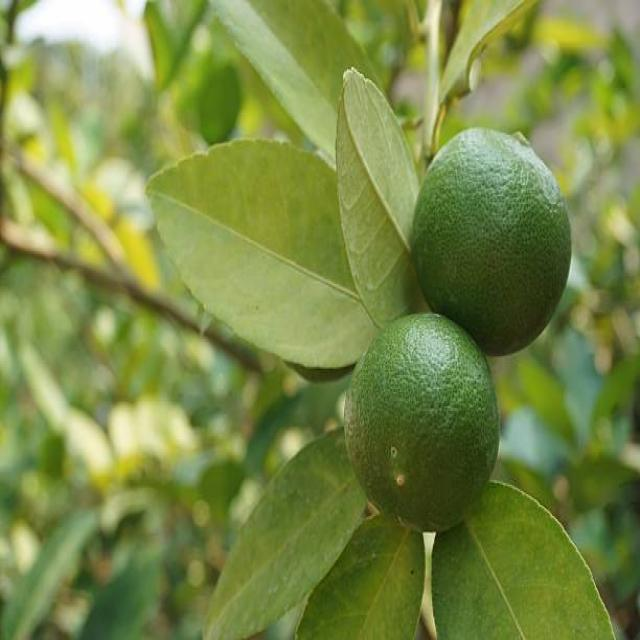Unripe: (412, 128, 573, 356), (344, 309, 499, 535)
